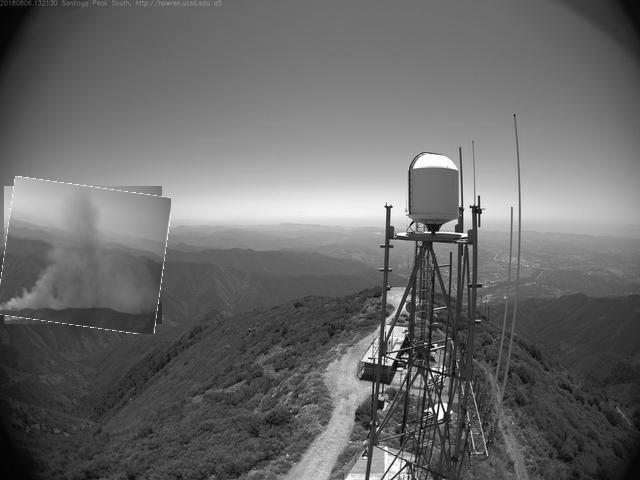smoke: (1, 182, 169, 332)
